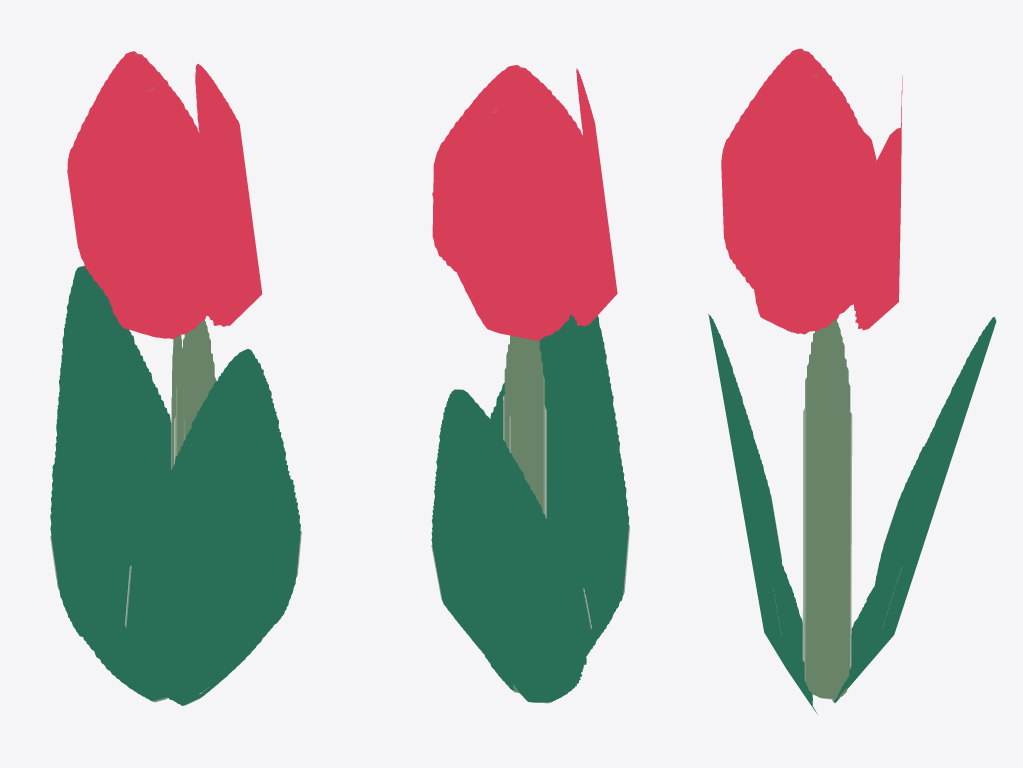
File: Tulip_r.fbx
3 renders of one model, left to right at view 1: azimuth 30°, elevation 25°; view 2: azimuth 150°, elevation 25°; view 3: azimuth 270°, elevation 25°, orthographic. The views are drawn at different scales.
Parts seen in each view (by area): view 1: polySurface32; view 2: polySurface32; view 3: polySurface32.
Part boxes in pixels (x1,y1,x2,y2): polySurface32: (50, 51, 301, 705); polySurface32: (431, 65, 629, 703); polySurface32: (708, 48, 996, 714).
Size of the model in its own units: 0.1498 by 0.3176 by 0.1319.
